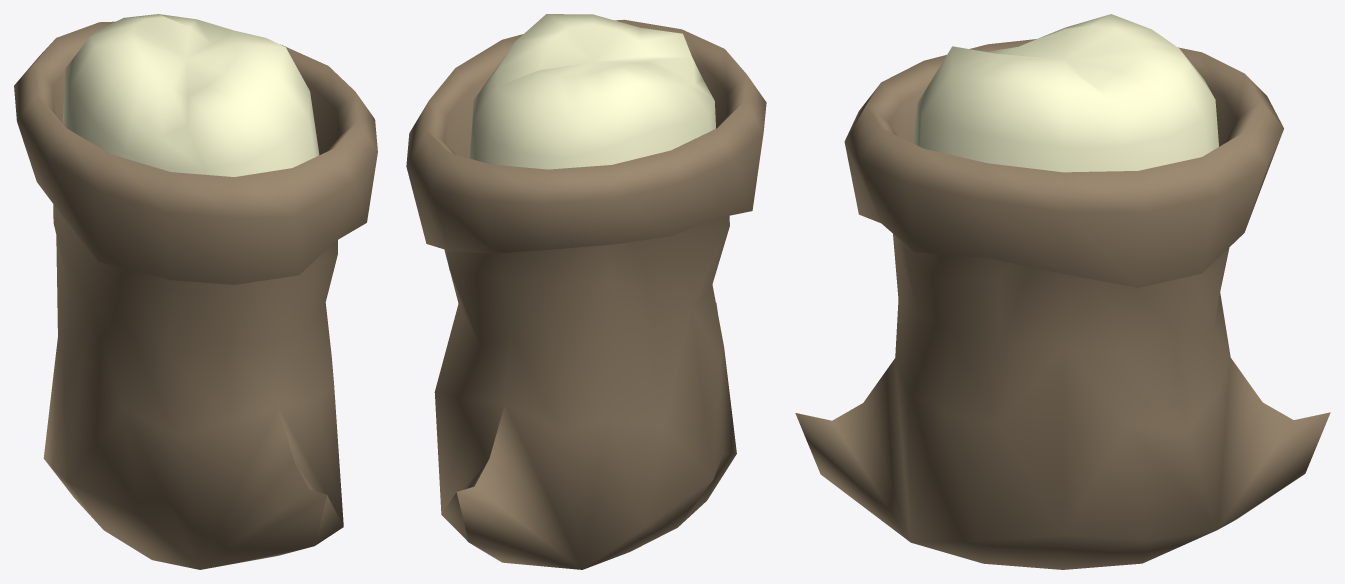
Rendered from Flour.fbx.
The picture shows the model from 3 angles, left to right: view 1: azimuth 30°, elevation 25°; view 2: azimuth 150°, elevation 25°; view 3: azimuth 270°, elevation 25°; orthographic projection. The views are drawn at different scales.
Parts seen in each view (by area): view 1: Flour; view 2: Flour; view 3: Flour.
Boxes of the visible parts, x1,y1,x2,y2 form: Flour: (14,14,377,569); Flour: (406,14,766,569); Flour: (795,14,1330,569).
Size of the model in its own units: 83.31 by 131 by 127.
